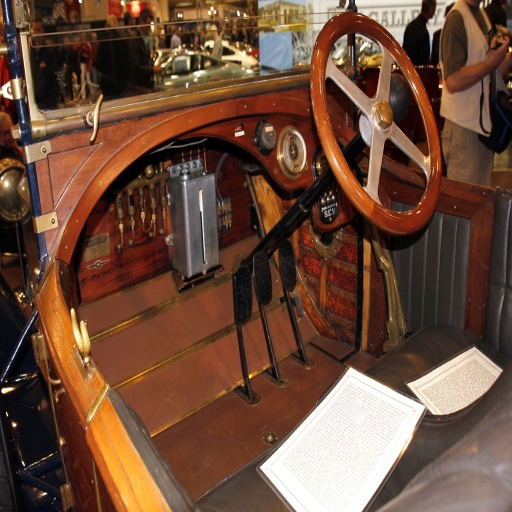hand: (488, 27, 509, 68)
